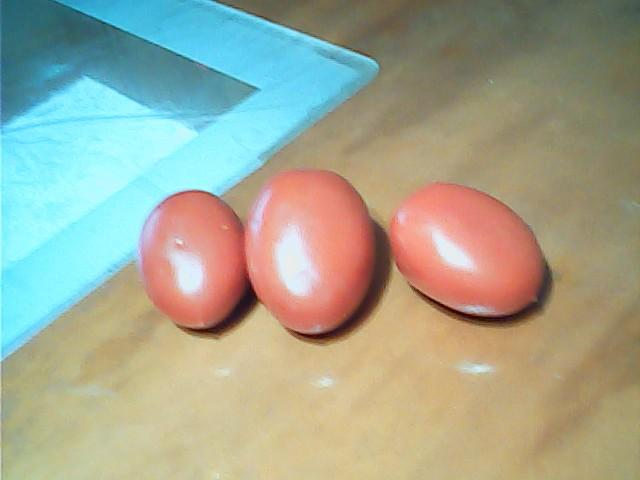maduro: (242, 167, 375, 335), (389, 182, 547, 319), (138, 189, 246, 333)
